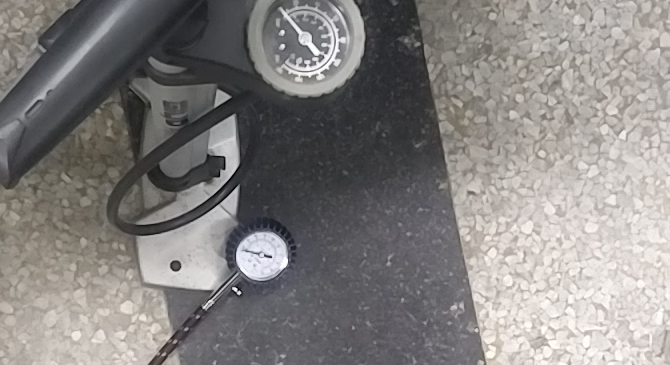Round_Meter: (257, 2, 358, 87), (235, 229, 292, 287)
